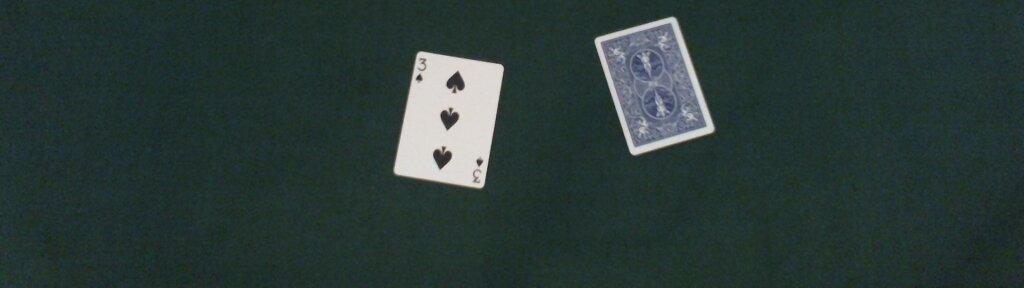back: (594, 16, 715, 156)
three: (392, 51, 504, 190)
